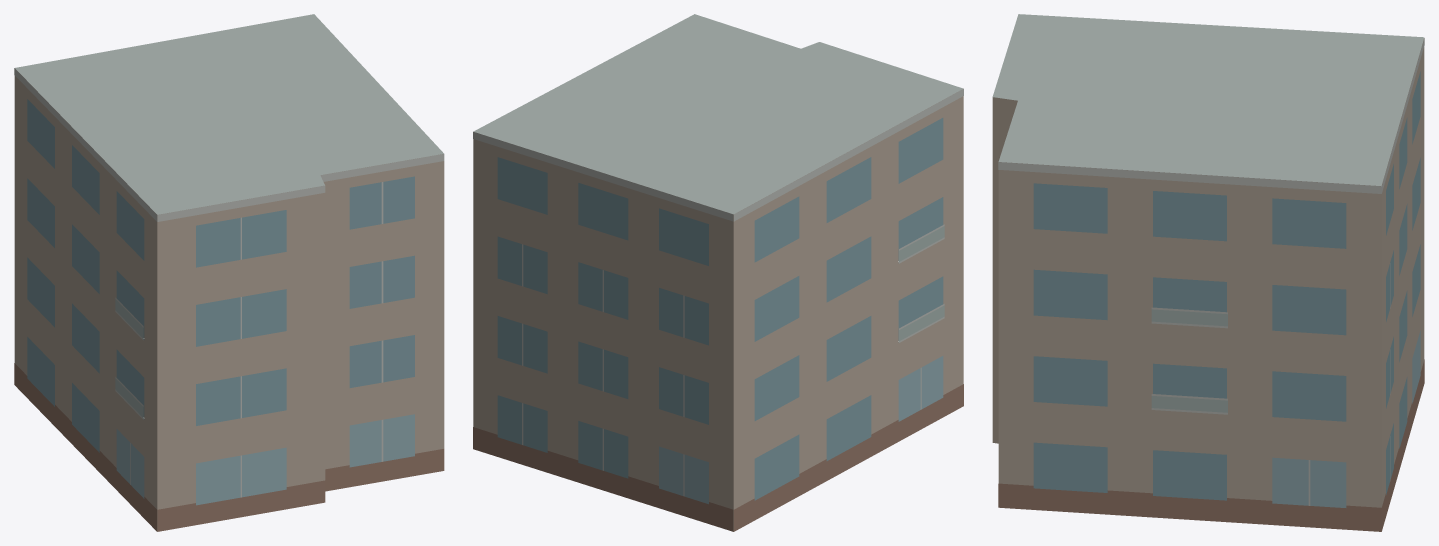
The model's file is survey-upis-32756524.glb.
3 renders of one model, left to right at view 1: azimuth 30°, elevation 25°; view 2: azimuth 150°, elevation 25°; view 3: azimuth 270°, elevation 25°, orthographic. The views are drawn at different scales.
Parts seen in each view (by area): view 1: survey-upis-32756524.tmp; view 2: survey-upis-32756524.tmp; view 3: survey-upis-32756524.tmp.
Part boxes in pixels (x1,y1,x2,y2): survey-upis-32756524.tmp: [14, 14, 444, 531]; survey-upis-32756524.tmp: [473, 14, 963, 531]; survey-upis-32756524.tmp: [992, 14, 1424, 531].
Size of the model in its own units: 11.38 by 10.65 by 12.07.
